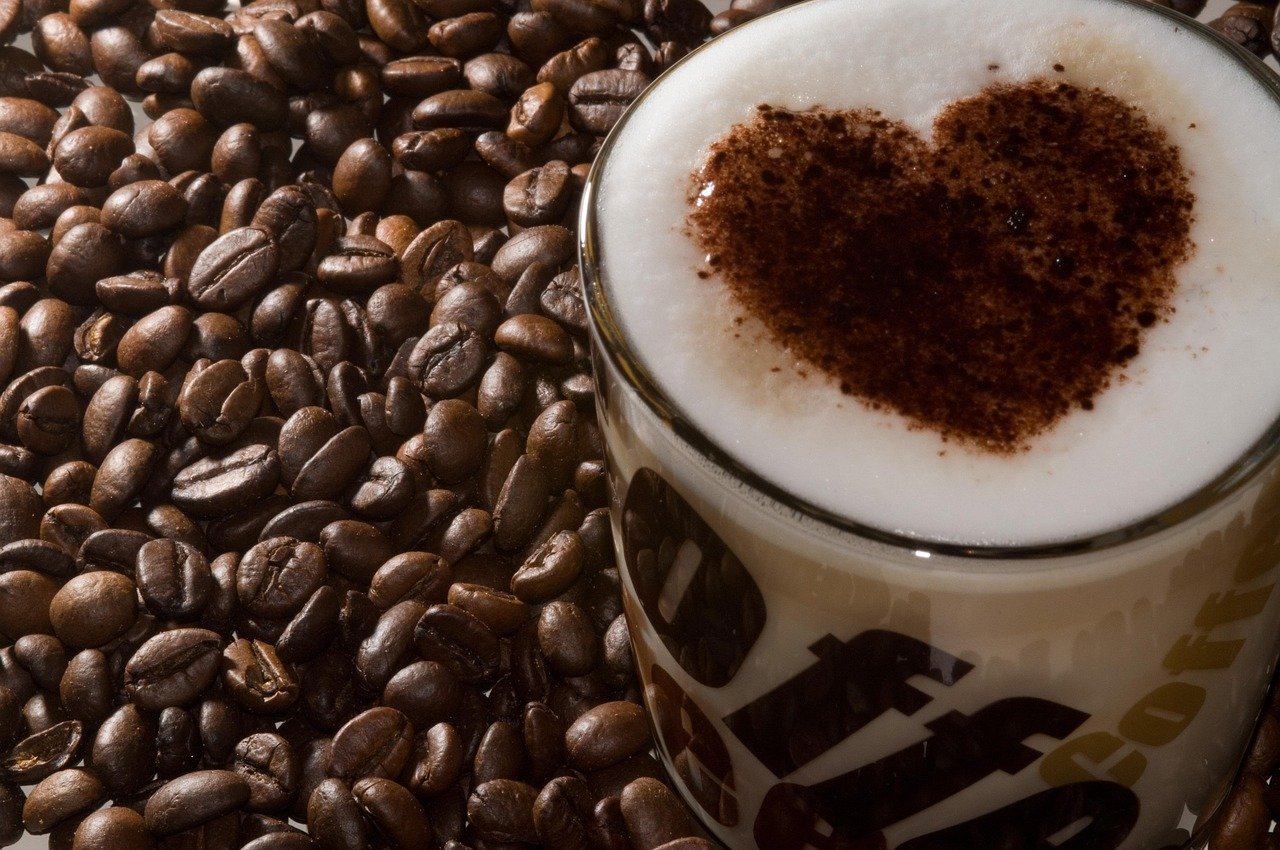mug: (553, 22, 1280, 799)
